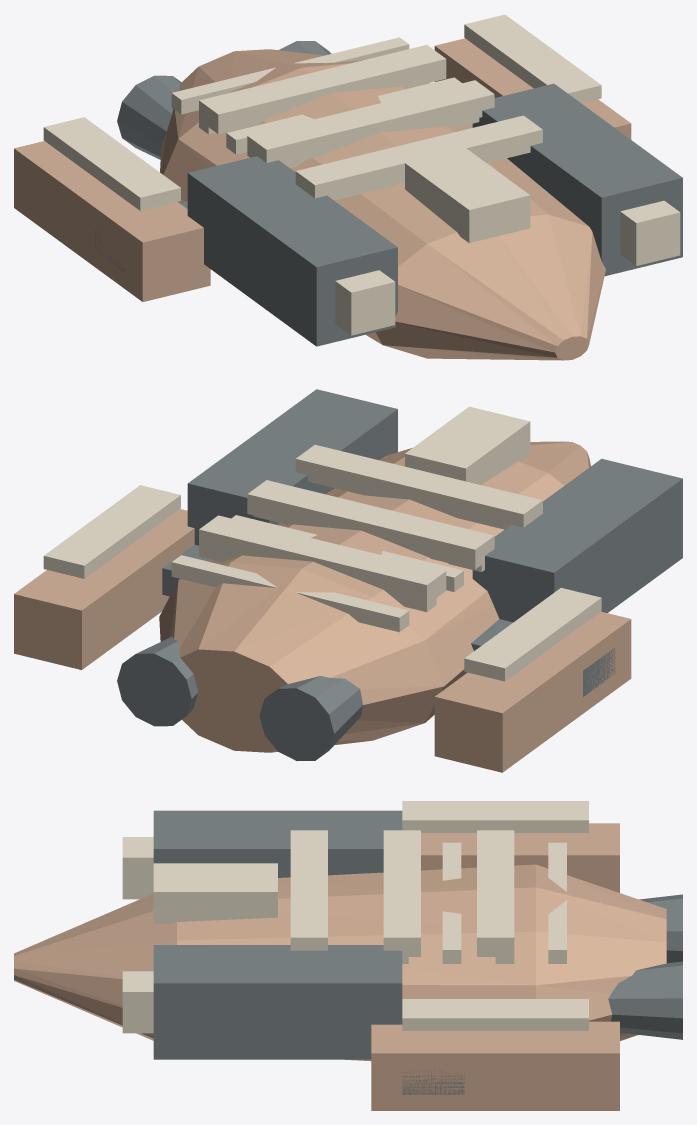
3 renders of one model, top to bottom at view 1: azimuth 30°, elevation 25°; view 2: azimuth 150°, elevation 25°; view 3: azimuth 270°, elevation 25°, orthographic. The views are drawn at different scales.
Size of the model in its own units: 3.4 by 1.17 by 4.18.
